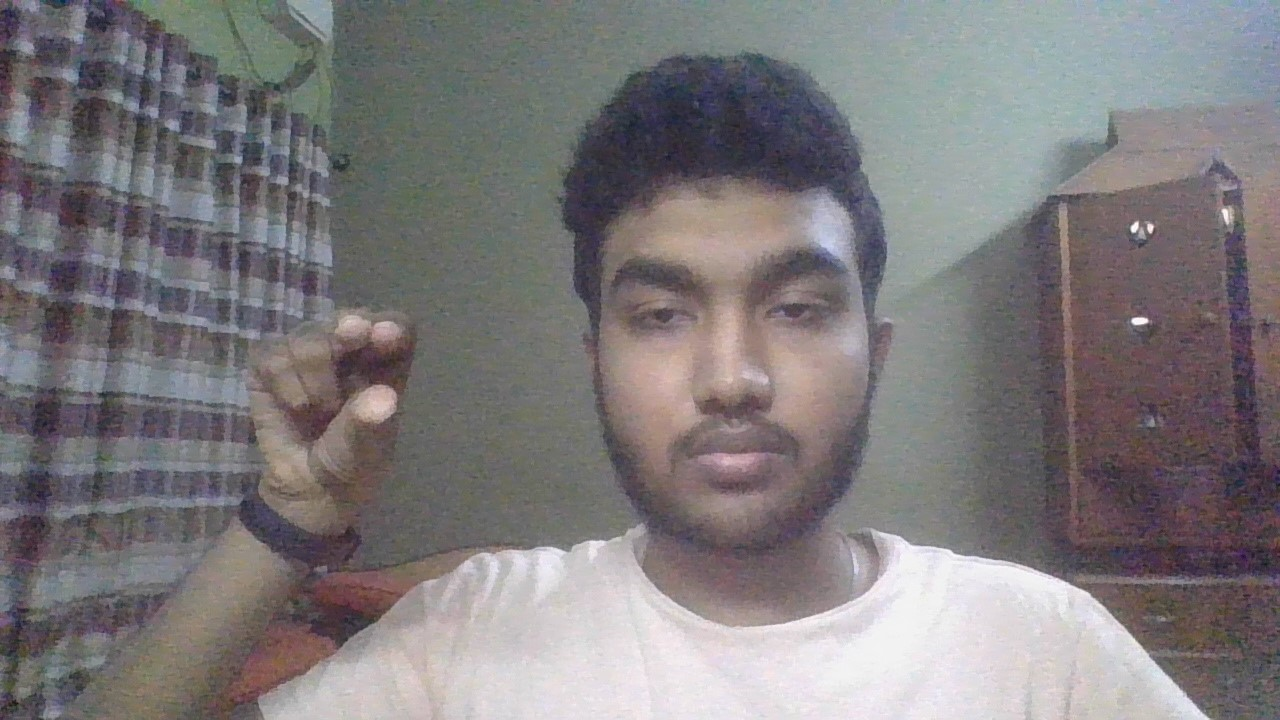No: (220, 281, 454, 541)
